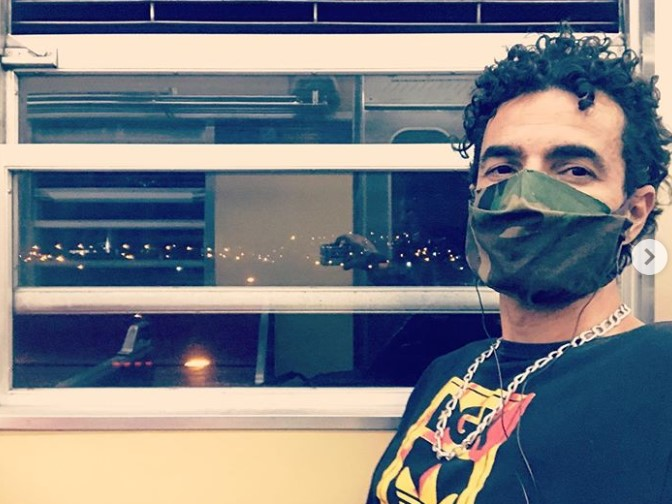face_with_mask: (458, 41, 672, 311), (464, 41, 666, 302)
